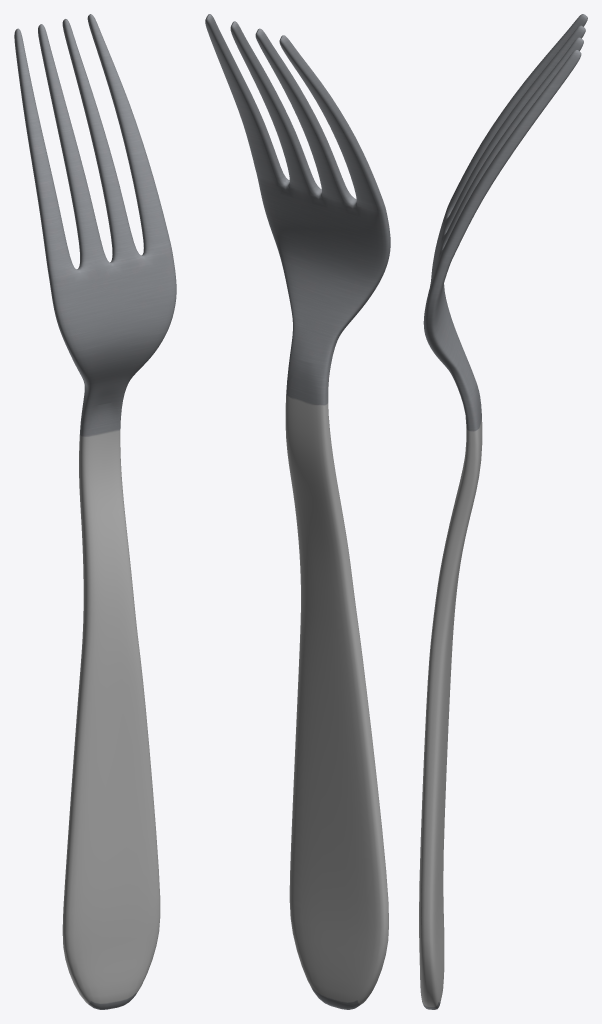
The model's file is fork.fbx.
The picture shows the model from 3 angles, left to right: view 1: azimuth 30°, elevation 25°; view 2: azimuth 150°, elevation 25°; view 3: azimuth 270°, elevation 25°; orthographic projection. The views are drawn at different scales.
Visible parts, largest first — view 1: defaultMaterial; view 2: defaultMaterial; view 3: defaultMaterial.
Part boxes in pixels (x1,y1,x2,y2): defaultMaterial: (14, 14, 176, 1009); defaultMaterial: (205, 14, 390, 1009); defaultMaterial: (419, 14, 587, 1009).
Bounding box in the file's own units: 243 × 1836 × 287.
1 material, 1 textured.
